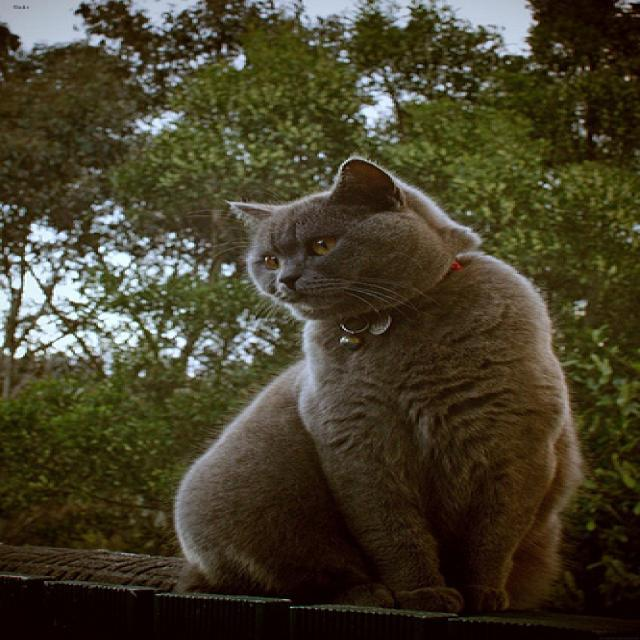British_Shorthair: (212, 144, 508, 339)
